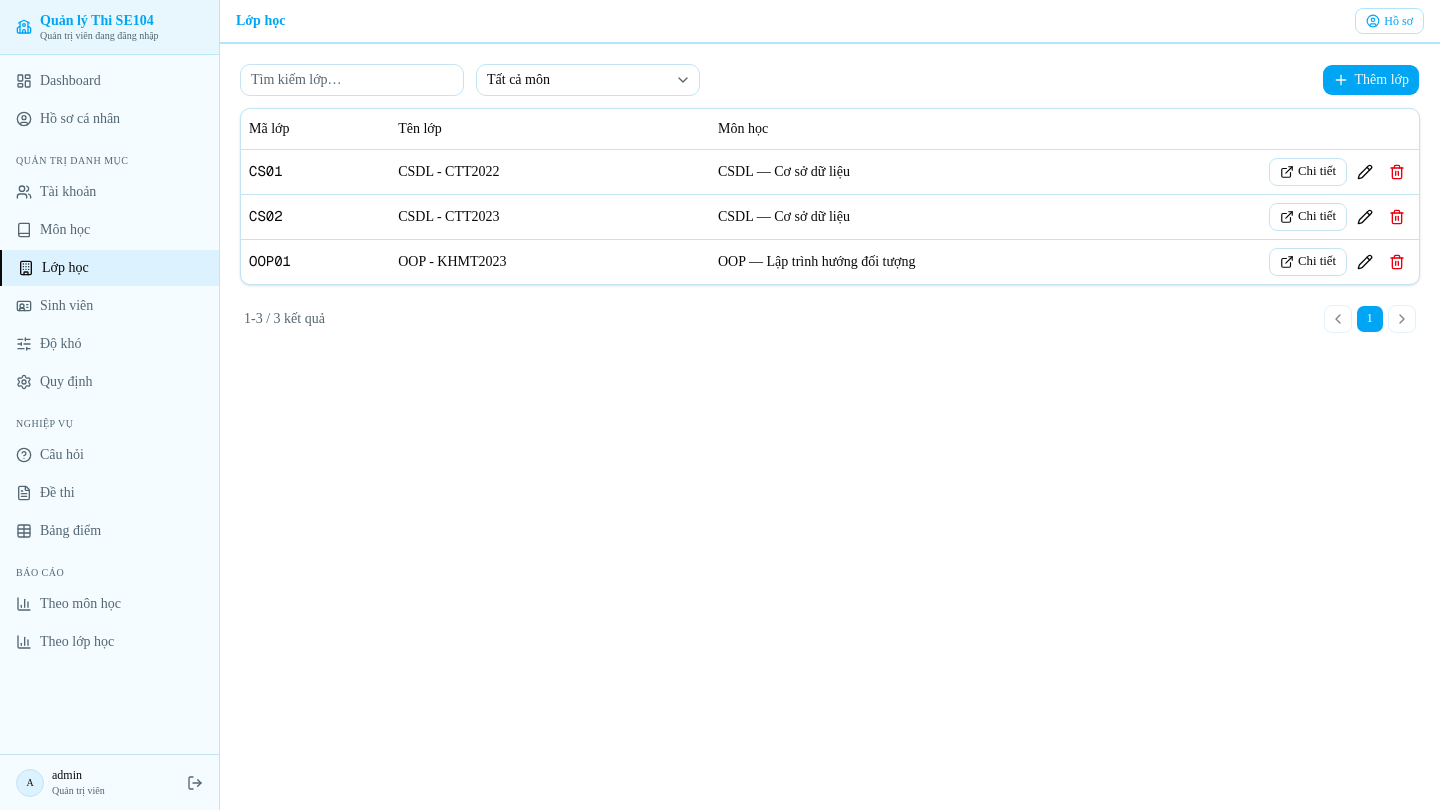
Scenario: ClassesPage › admin can delete a class
Expected: the text "CS01" is shown, x1=249 y1=162 x2=283 y2=180
Click the button named "Xoá" in the row of "CS01": (1397, 172) x1=1383 y1=158 x2=1411 y2=186
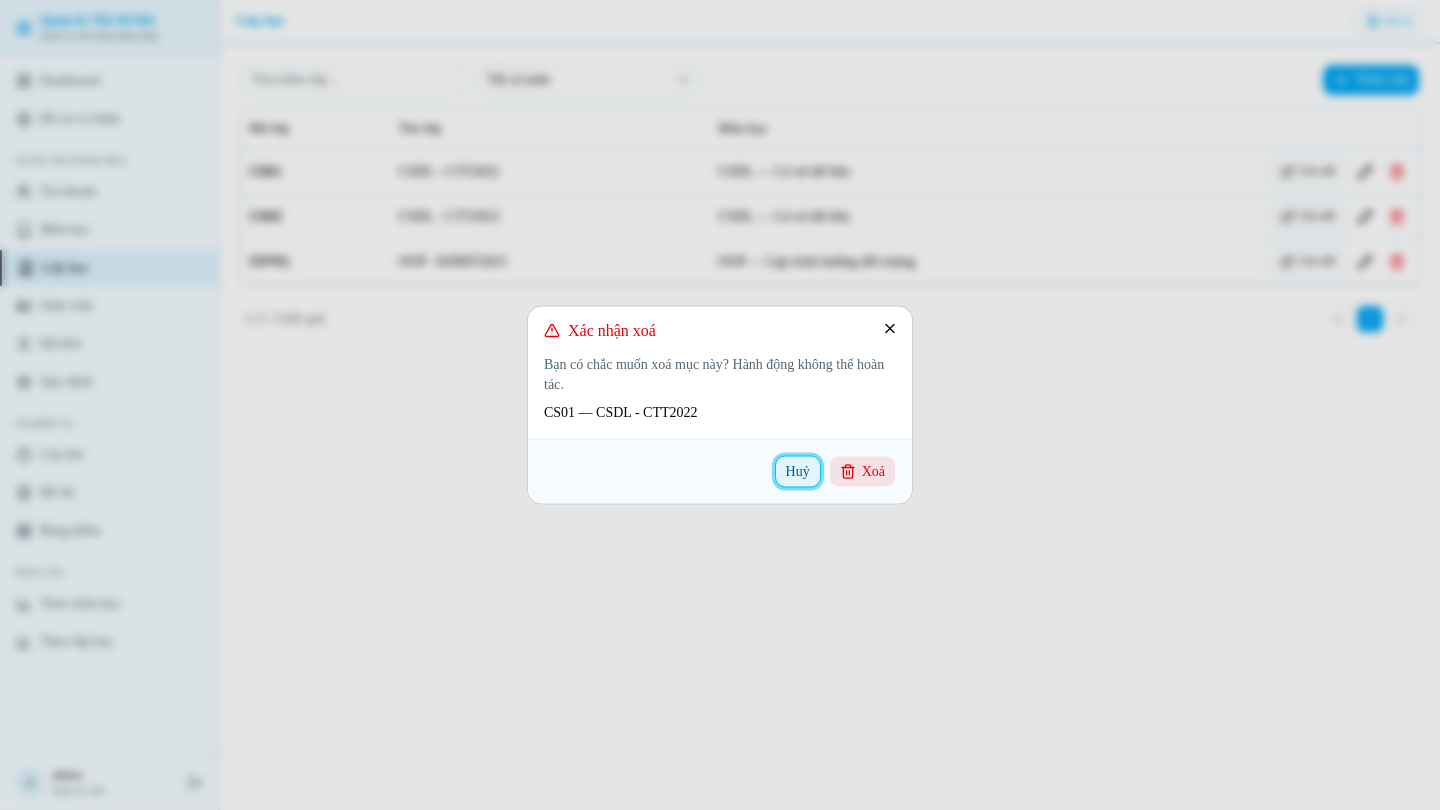
Click the button "Xoá": (862, 472) x1=829 y1=456 x2=896 y2=488
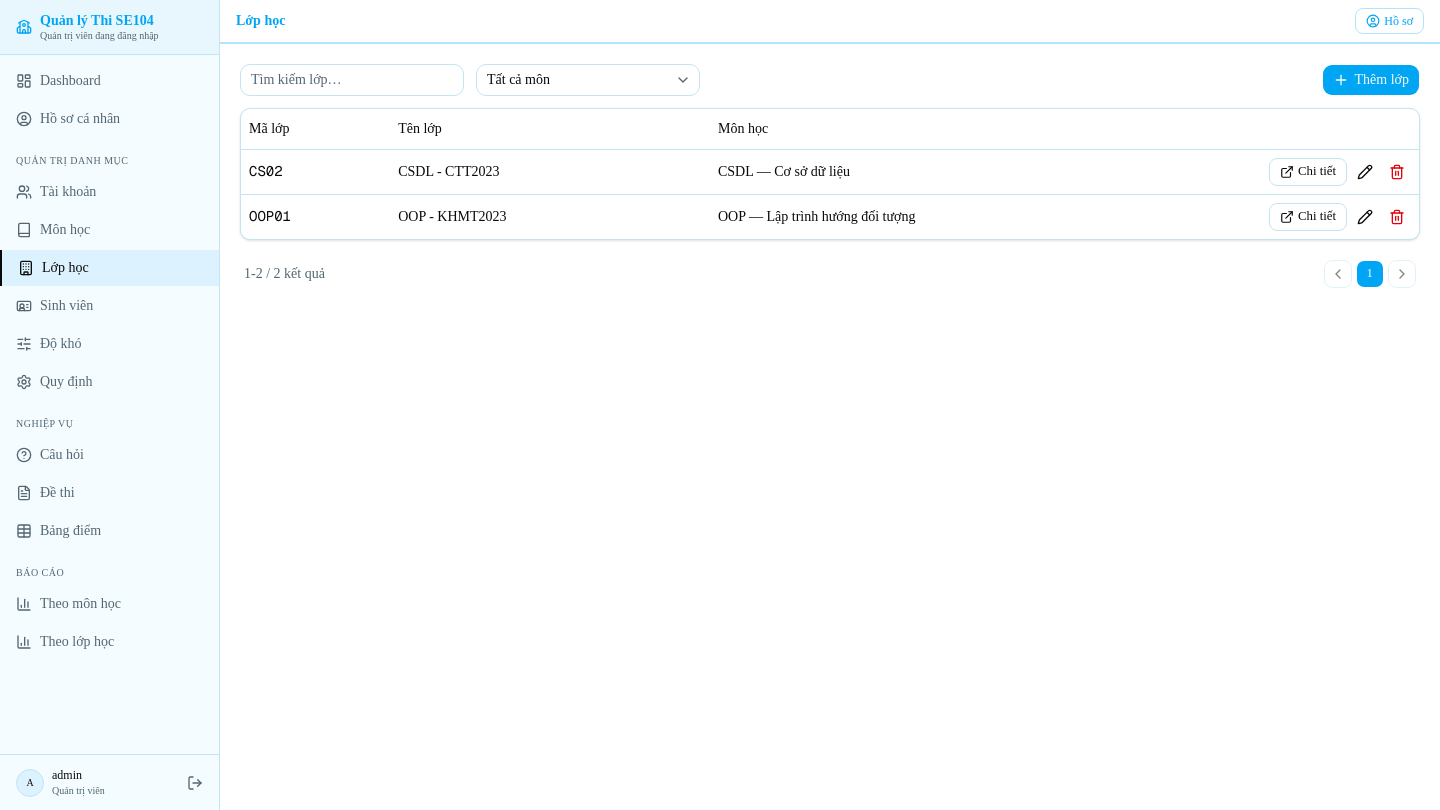
Expected: the text "CS01" is gone
